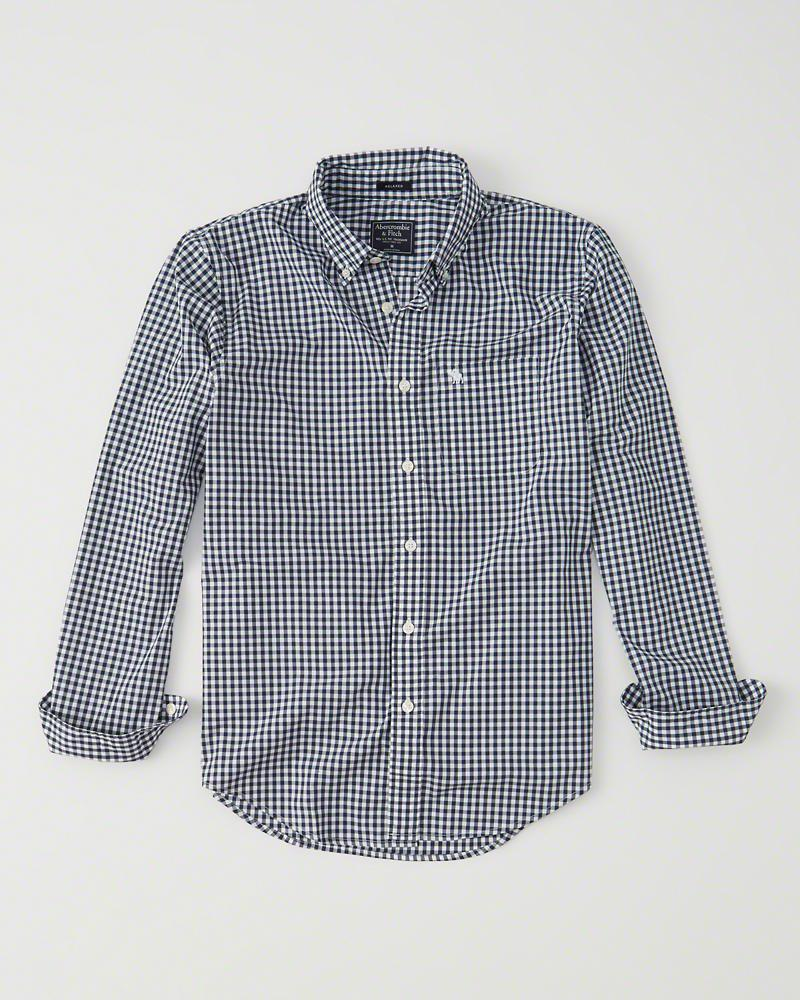teeshirt: (39, 140, 767, 863)
